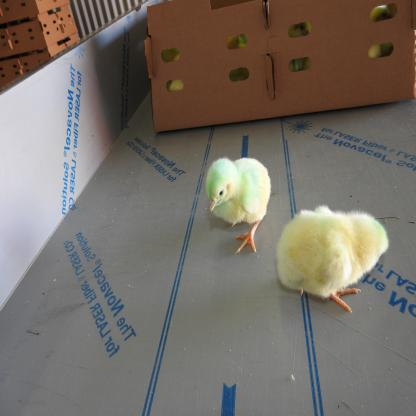Chicken: (272, 198, 398, 314), (205, 136, 273, 254)
